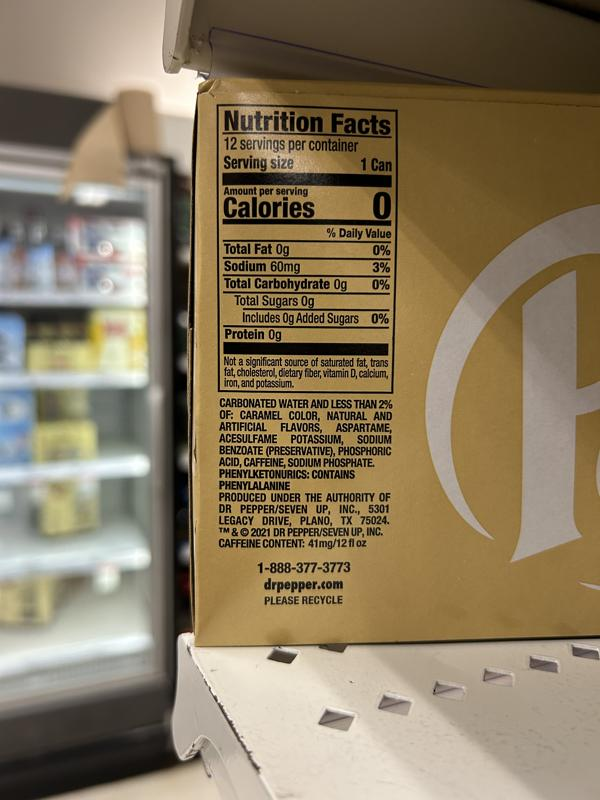ingredients: (215, 396, 398, 469)
